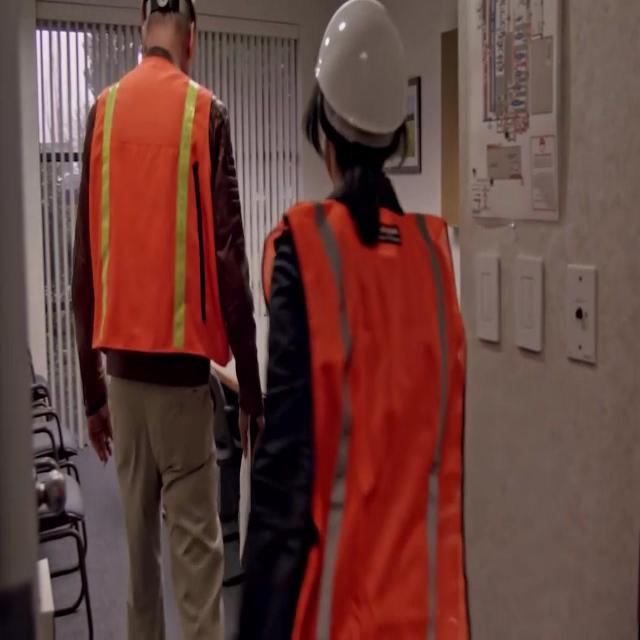Reflective-Jacket: (250, 191, 482, 633), (65, 56, 243, 392)
Safety-Helmet: (300, 0, 422, 158), (129, 0, 205, 42)
